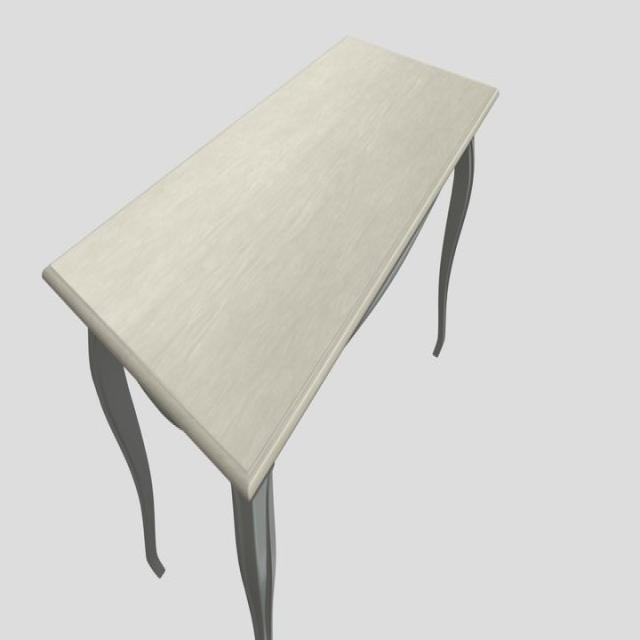table: (40, 28, 503, 640)
